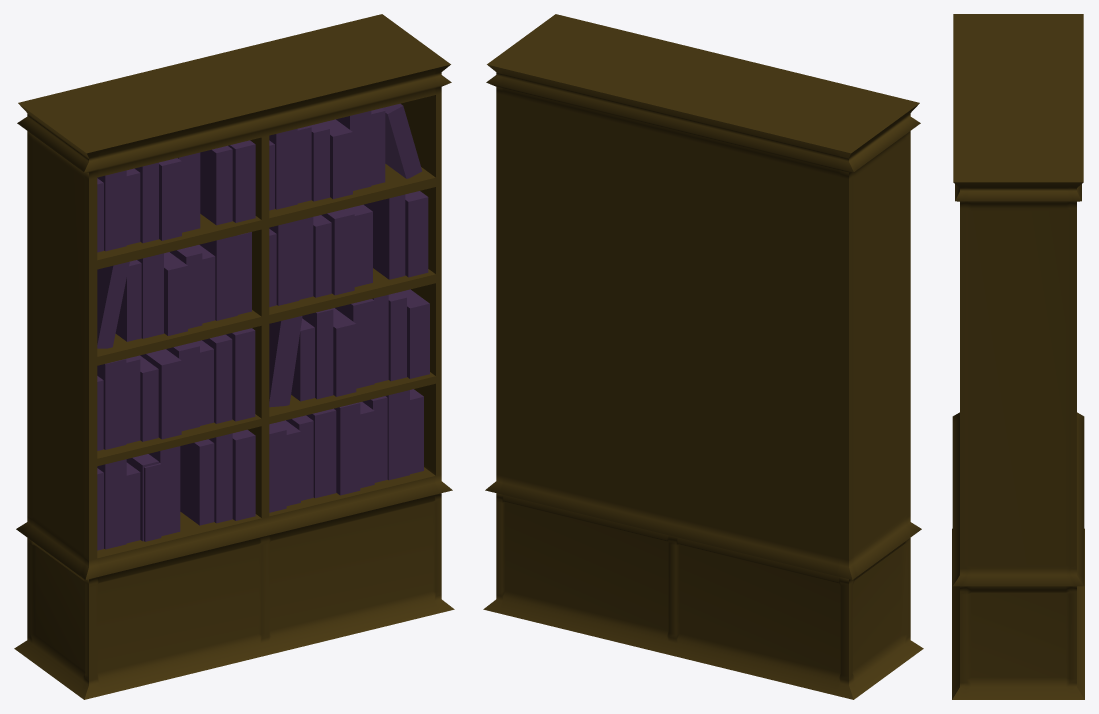
The model's file is DD_3_bookVar2_HENRY.fbx.
3 renders of one model, left to right at view 1: azimuth 30°, elevation 25°; view 2: azimuth 150°, elevation 25°; view 3: azimuth 270°, elevation 25°, orthographic. The views are drawn at different scales.
Parts seen in each view (by area): view 1: bookShelfBody, booksVari2; view 2: bookShelfBody; view 3: bookShelfBody.
Boxes of the visible parts, x1,y1,x2,y2 form: bookShelfBody: [14, 14, 454, 699]; booksVari2: [97, 103, 429, 550]; bookShelfBody: [483, 14, 923, 699]; bookShelfBody: [952, 14, 1084, 699].
Size of the model in its own units: 11.46 by 16.11 by 3.76.
